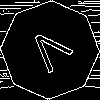V: (25, 25, 80, 81)
